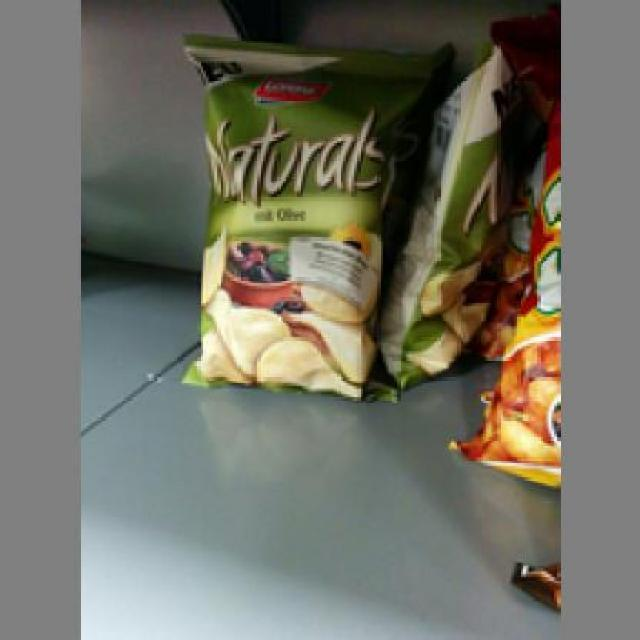Chips: (186, 40, 394, 400)
